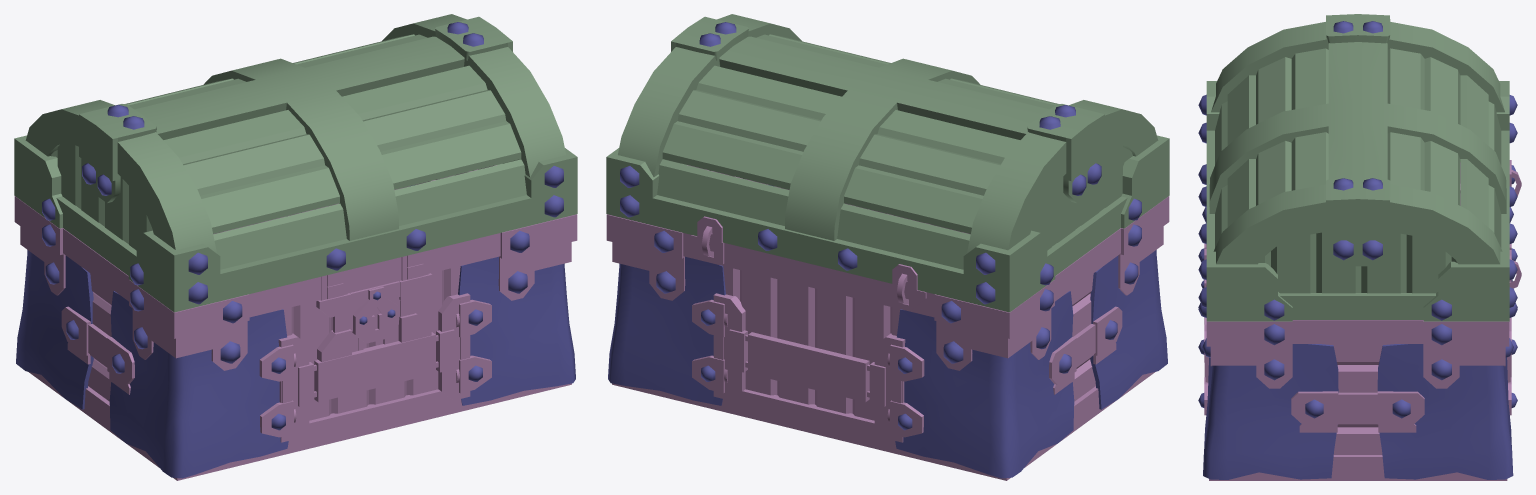
Rendered from lowTreasureChest.fbx.
3 views of the same model, side by side, from view 1: azimuth 30°, elevation 25°; view 2: azimuth 150°, elevation 25°; view 3: azimuth 270°, elevation 25° (orthographic). The views are drawn at different scales.
Visible parts, largest first — view 1: Top_05_LP, Cloth_01_LP, Top_01_LP, Top_03_LP, Top_04_LP, Bottom_05_LP, Bottom_03_LP, Bottom_01_LP, Details_01_LP, Bottom_06_LP, Bottom_07_LP, Top_06_LP (+2 smaller); view 2: Top_05_LP, Cloth_01_LP, Top_01_LP, Top_03_LP, Top_04_LP, Bottom_03_LP, Bottom_05_LP, Bottom_06_LP, Bottom_01_LP, Details_01_LP, Top_06_LP, Top_02_LP (+2 smaller); view 3: Cloth_01_LP, Top_05_LP, Top_04_LP, Top_01_LP, Top_06_LP, Top_03_LP, Bottom_01_LP, Details_01_LP, Top_02_LP, Bottom_05_LP, Bottom_04_LP, Bottom_06_LP (+2 smaller).
Part boxes in pixels (left/top/right/bottom): Top_05_LP: left=126, top=34, right=526, bottom=269; Cloth_01_LP: left=16, top=185, right=575, bottom=478; Top_01_LP: left=135, top=36, right=464, bottom=240; Top_03_LP: left=14, top=135, right=577, bottom=312; Top_04_LP: left=25, top=14, right=565, bottom=253; Bottom_05_LP: left=28, top=165, right=571, bottom=480; Bottom_03_LP: left=259, top=209, right=491, bottom=442; Bottom_01_LP: left=14, top=175, right=577, bottom=370; Details_01_LP: left=42, top=22, right=563, bottom=430; Bottom_06_LP: left=88, top=170, right=474, bottom=420; Bottom_07_LP: left=316, top=250, right=432, bottom=362; Top_06_LP: left=51, top=142, right=506, bottom=275; Top_05_LP: left=657, top=34, right=1057, bottom=269; Cloth_01_LP: left=608, top=185, right=1167, bottom=478; Top_01_LP: left=719, top=36, right=1048, bottom=240; Top_03_LP: left=606, top=135, right=1169, bottom=312; Top_04_LP: left=618, top=14, right=1158, bottom=253; Bottom_03_LP: left=692, top=209, right=924, bottom=442; Bottom_05_LP: left=612, top=165, right=1155, bottom=480; Bottom_06_LP: left=709, top=170, right=1095, bottom=420; Bottom_01_LP: left=606, top=175, right=1169, bottom=370; Details_01_LP: left=620, top=22, right=1141, bottom=430; Top_06_LP: left=677, top=142, right=1132, bottom=275; Top_02_LP: left=671, top=16, right=1104, bottom=202; Cloth_01_LP: left=1203, top=279, right=1513, bottom=479; Top_05_LP: left=1215, top=48, right=1501, bottom=247; Top_04_LP: left=1211, top=22, right=1504, bottom=264; Top_01_LP: left=1209, top=42, right=1506, bottom=213; Top_06_LP: left=1259, top=105, right=1460, bottom=319; Top_03_LP: left=1206, top=81, right=1509, bottom=321; Bottom_01_LP: left=1206, top=185, right=1509, bottom=388; Details_01_LP: left=1198, top=21, right=1517, bottom=418; Top_02_LP: left=1326, top=14, right=1390, bottom=266; Bottom_05_LP: left=1209, top=320, right=1507, bottom=480; Bottom_04_LP: left=1291, top=391, right=1424, bottom=432; Bottom_06_LP: left=1322, top=162, right=1460, bottom=454.
Size of the model in its own units: 87.91 by 61.39 by 62.12.
